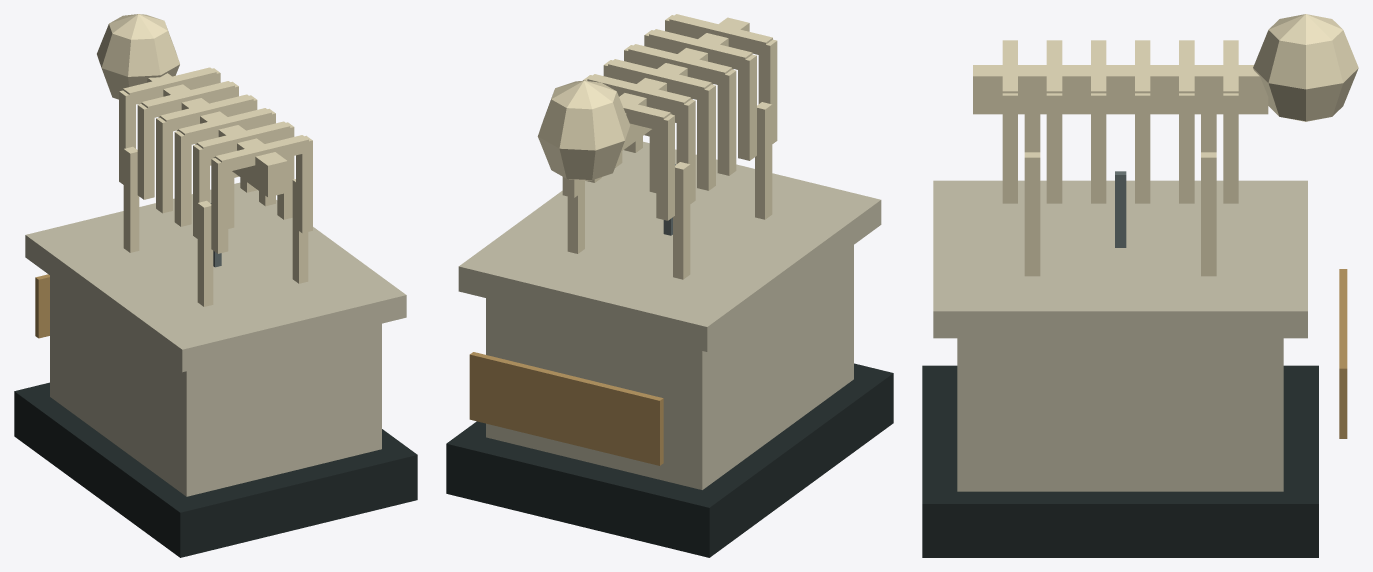
The model's file is LP_NaturalHistory_Skeleton.fbx.
3 renders of one model, left to right at view 1: azimuth 30°, elevation 25°; view 2: azimuth 150°, elevation 25°; view 3: azimuth 270°, elevation 25°, orthographic. The views are drawn at different scales.
Parts seen in each view (by area): view 1: M_Central_Limestone, WarmIvory, Charcoal, AgedBrass; view 2: M_Central_Limestone, WarmIvory, Charcoal, AgedBrass; view 3: M_Central_Limestone, WarmIvory, Charcoal, AgedBrass, M_Museum_BrushedMetal.
Boxes of the visible parts, x1=… form: M_Central_Limestone: x1=25, y1=182, x2=406, y2=496; WarmIvory: x1=97, y1=14, x2=312, y2=306; Charcoal: x1=14, y1=382, x2=417, y2=557; AgedBrass: x1=35, y1=274, x2=49, y2=338; M_Central_Limestone: x1=458, y1=141, x2=881, y2=489; WarmIvory: x1=537, y1=14, x2=777, y2=279; Charcoal: x1=446, y1=363, x2=893, y2=557; AgedBrass: x1=469, y1=352, x2=663, y2=465; M_Central_Limestone: x1=933, y1=180, x2=1307, y2=491; WarmIvory: x1=973, y1=14, x2=1358, y2=276; Charcoal: x1=922, y1=365, x2=1318, y2=557; AgedBrass: x1=1339, y1=269, x2=1347, y2=438; M_Museum_BrushedMetal: x1=1115, y1=171, x2=1126, y2=247.
Size of the model in its own units: 150 by 240 by 200.
